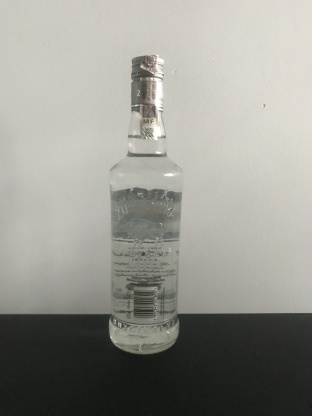nakretka: (129, 53, 166, 114)
